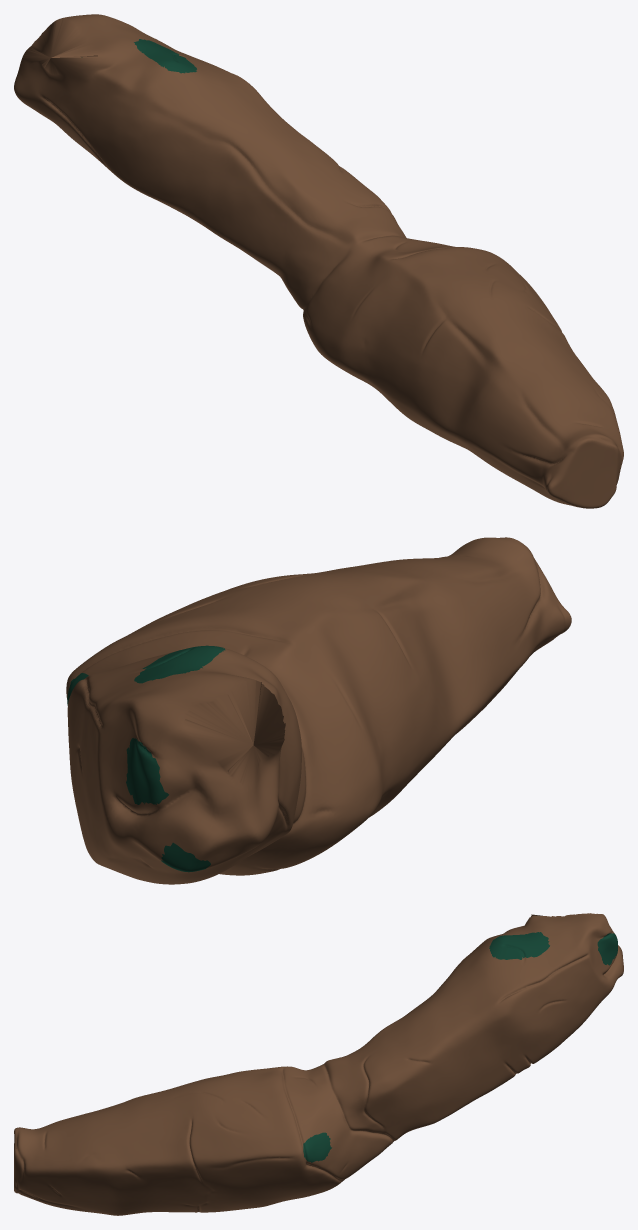
File: brazoDerRocky.obj
The picture shows the model from 3 angles, top to bottom: view 1: azimuth 30°, elevation 25°; view 2: azimuth 150°, elevation 25°; view 3: azimuth 270°, elevation 25°; orthographic projection. The views are drawn at different scales.
Parts seen in each view (by area): view 1: brazoDer_colorCafe, brazoDer_Material; view 2: brazoDer_colorCafe, brazoDer_Material; view 3: brazoDer_colorCafe, brazoDer_Material.
Boxes of the visible parts, x1,y1,x2,y2 form: brazoDer_colorCafe: (14,14,623,508); brazoDer_Material: (81,39,196,73); brazoDer_colorCafe: (66,537,571,884); brazoDer_Material: (67,645,225,872); brazoDer_colorCafe: (14,913,623,1215); brazoDer_Material: (303,932,617,1162).
Bounding box in the file's own units: 0.2818 × 0.2523 × 0.6042.
